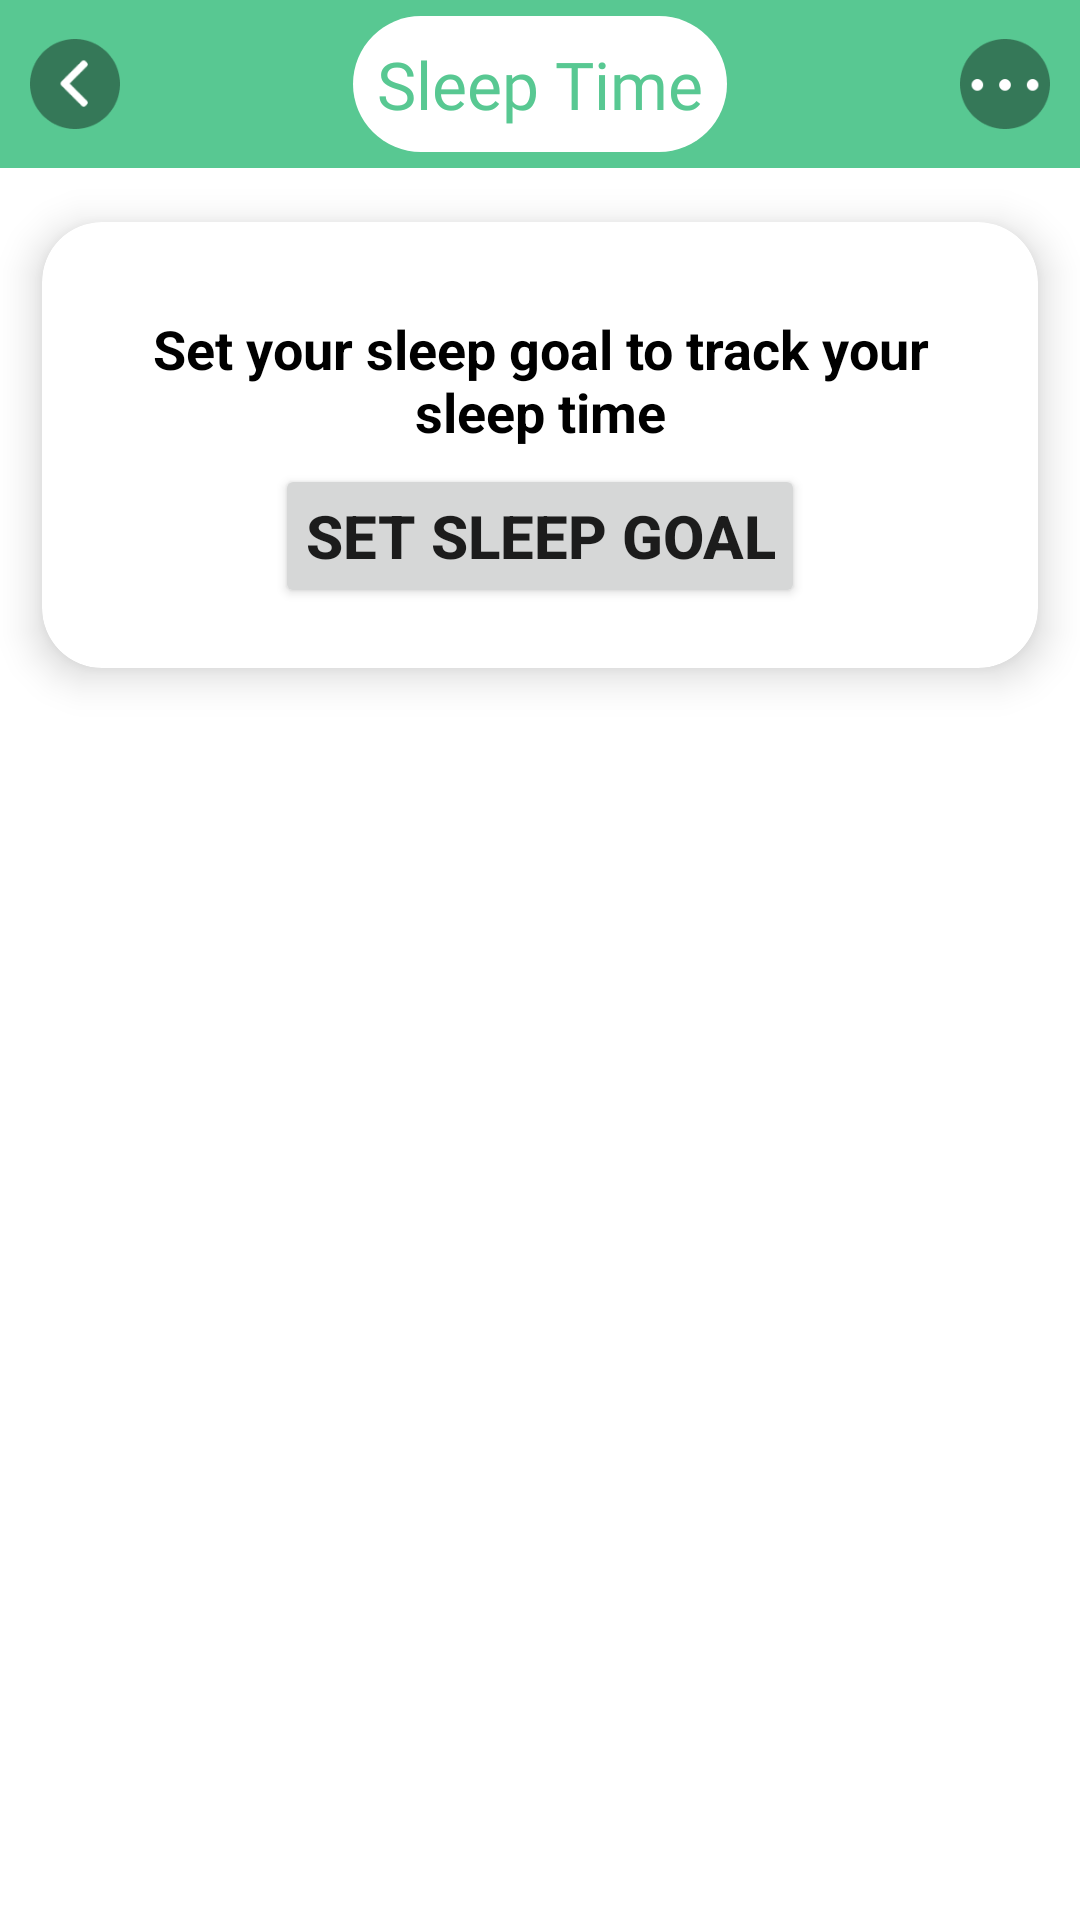

Screen size 1080×1920. Icon name, then its box in pixels as bbox(x1, y1, x2, y2):
back button: bbox(30, 39, 120, 129)
more anim: bbox(960, 39, 1050, 129)
